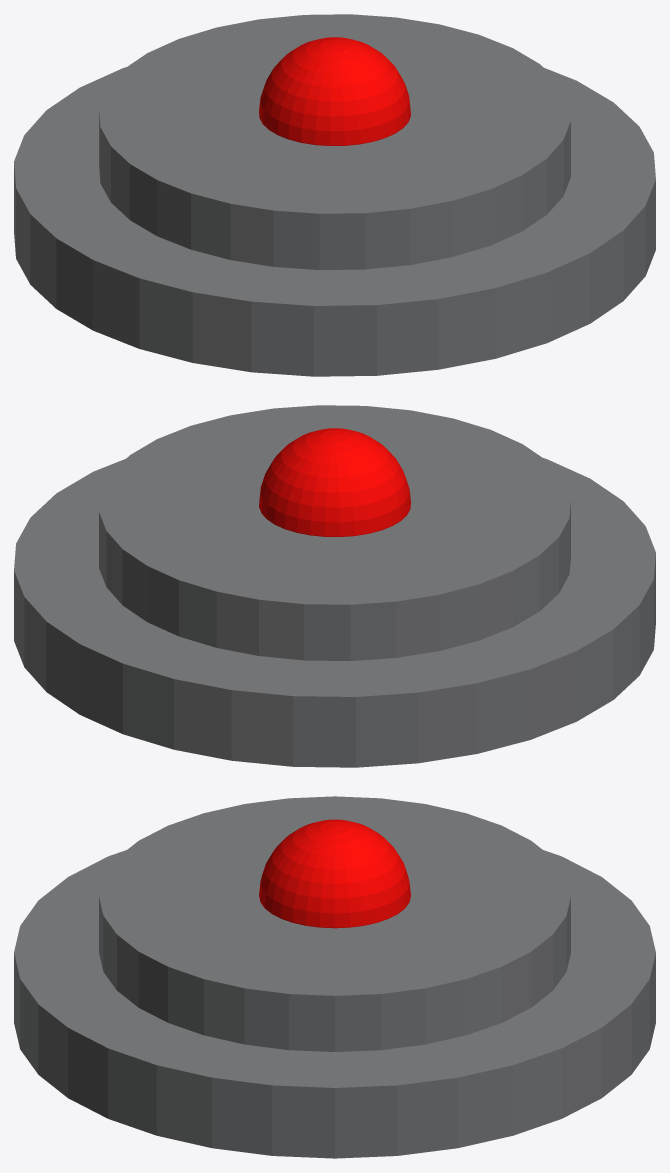
The model's file is LandMine.fbx.
The picture shows the model from 3 angles, top to bottom: view 1: azimuth 30°, elevation 25°; view 2: azimuth 150°, elevation 25°; view 3: azimuth 270°, elevation 25°; orthographic projection.
Visible parts, largest first — view 1: Cylinder, Sphere; view 2: Cylinder, Sphere; view 3: Cylinder, Sphere.
Part boxes in pixels (x1=…): Cylinder: x1=14, y1=14, x2=655, y2=376; Sphere: x1=259, y1=37, x2=410, y2=145; Cylinder: x1=14, y1=405, x2=655, y2=767; Sphere: x1=259, y1=428, x2=410, y2=536; Cylinder: x1=14, y1=796, x2=655, y2=1158; Sphere: x1=259, y1=819, x2=410, y2=928.
Size of the model in its own units: 200 by 67.5 by 200.
